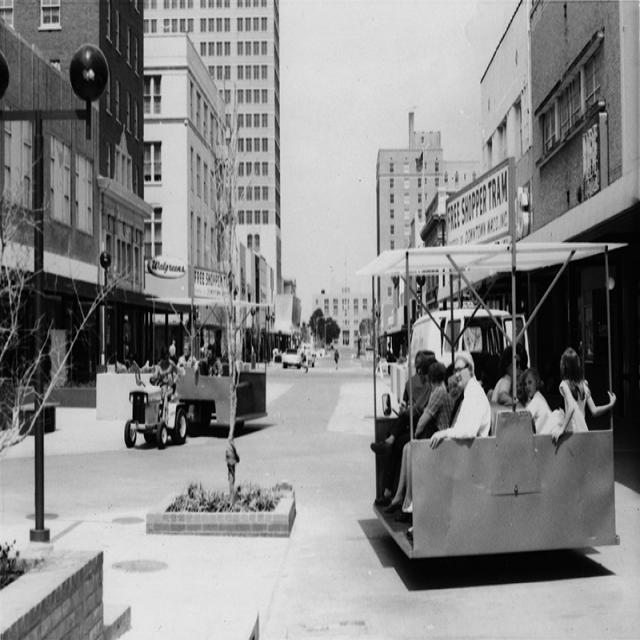body: (405, 349, 494, 546), (380, 360, 458, 524), (368, 349, 439, 508), (397, 361, 451, 511), (550, 346, 616, 444), (506, 364, 550, 436), (491, 343, 522, 407), (398, 349, 426, 416), (156, 344, 175, 424), (172, 341, 199, 386), (194, 343, 224, 378), (515, 367, 530, 408), (299, 344, 309, 373), (168, 338, 178, 366), (332, 346, 340, 372)
